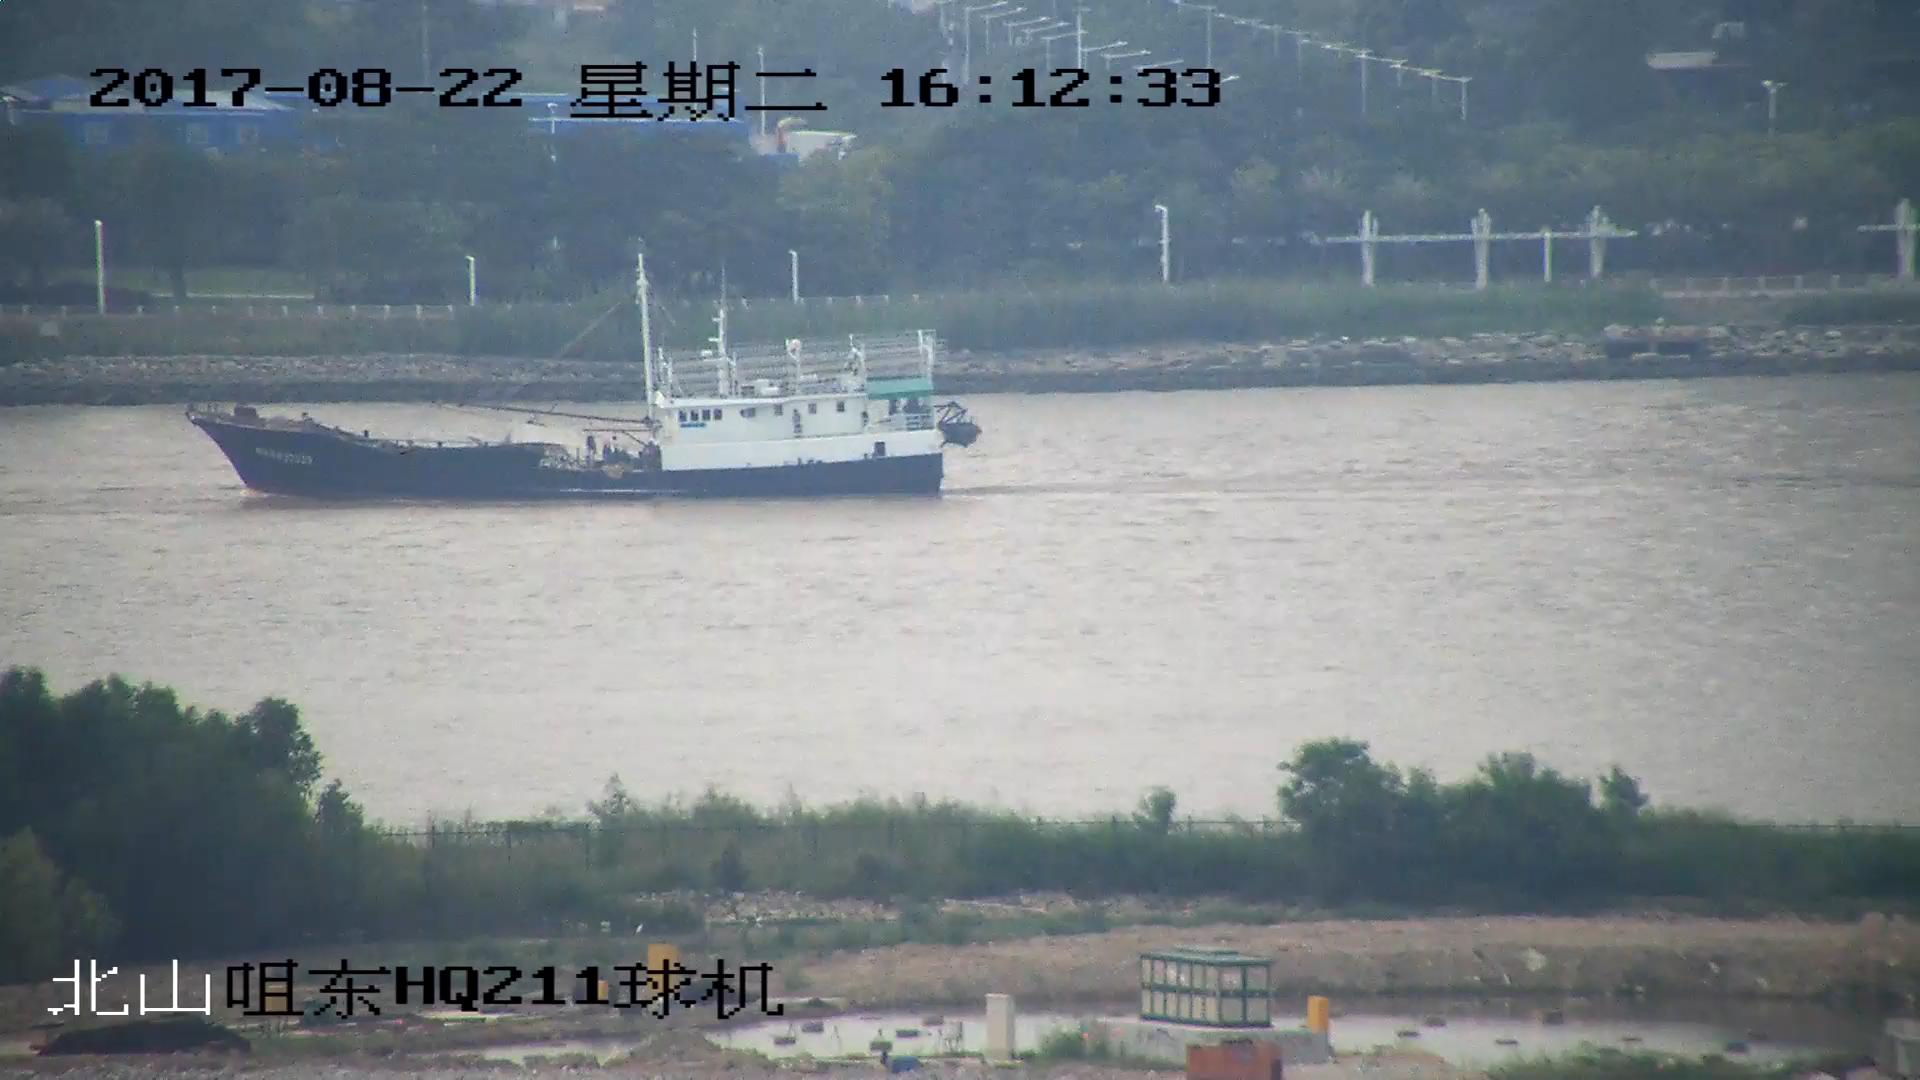fishing boat: (187, 262, 980, 496)
